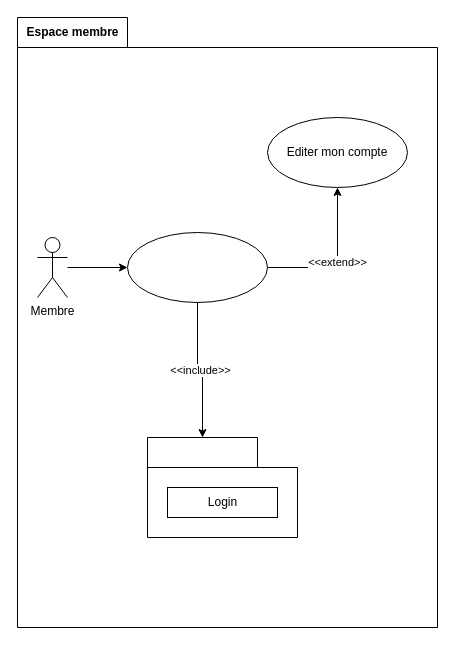
Image size: 455x645. Some labels were removed from this diagram. Here are the shapes that lost their labels. From the top down, the centre of each, then its label:
At point 197,267: "Voir mon compte".
At point 222,487: "Sécurité".
